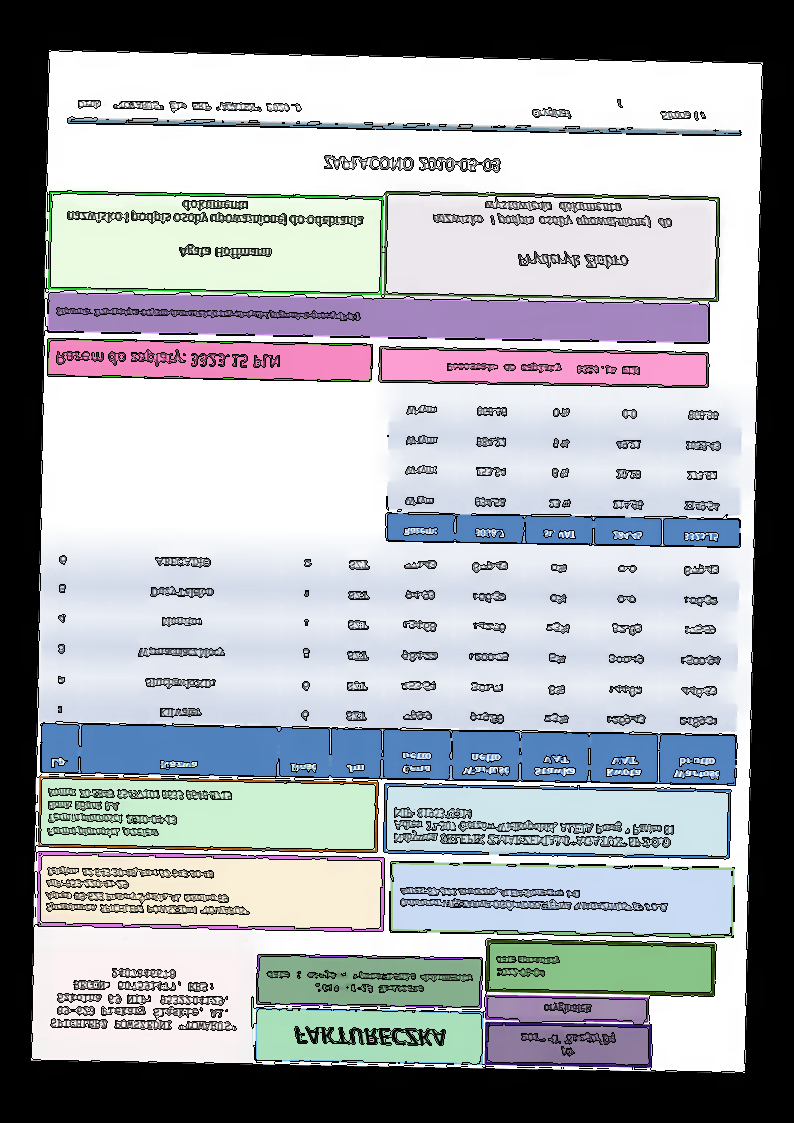Table: (40, 540, 739, 786), (385, 390, 744, 549)
TextBox: (49, 965, 238, 1033), (392, 806, 678, 850), (43, 865, 253, 917), (45, 785, 234, 842), (66, 197, 365, 230), (396, 885, 671, 915), (432, 198, 673, 230), (54, 304, 362, 324), (263, 969, 474, 998), (55, 346, 281, 370), (531, 97, 709, 122), (322, 154, 503, 175), (76, 98, 302, 114), (293, 1025, 446, 1048), (445, 359, 641, 376), (519, 1029, 619, 1059), (516, 249, 630, 272), (494, 953, 561, 979), (177, 243, 272, 260), (542, 1000, 593, 1016)
